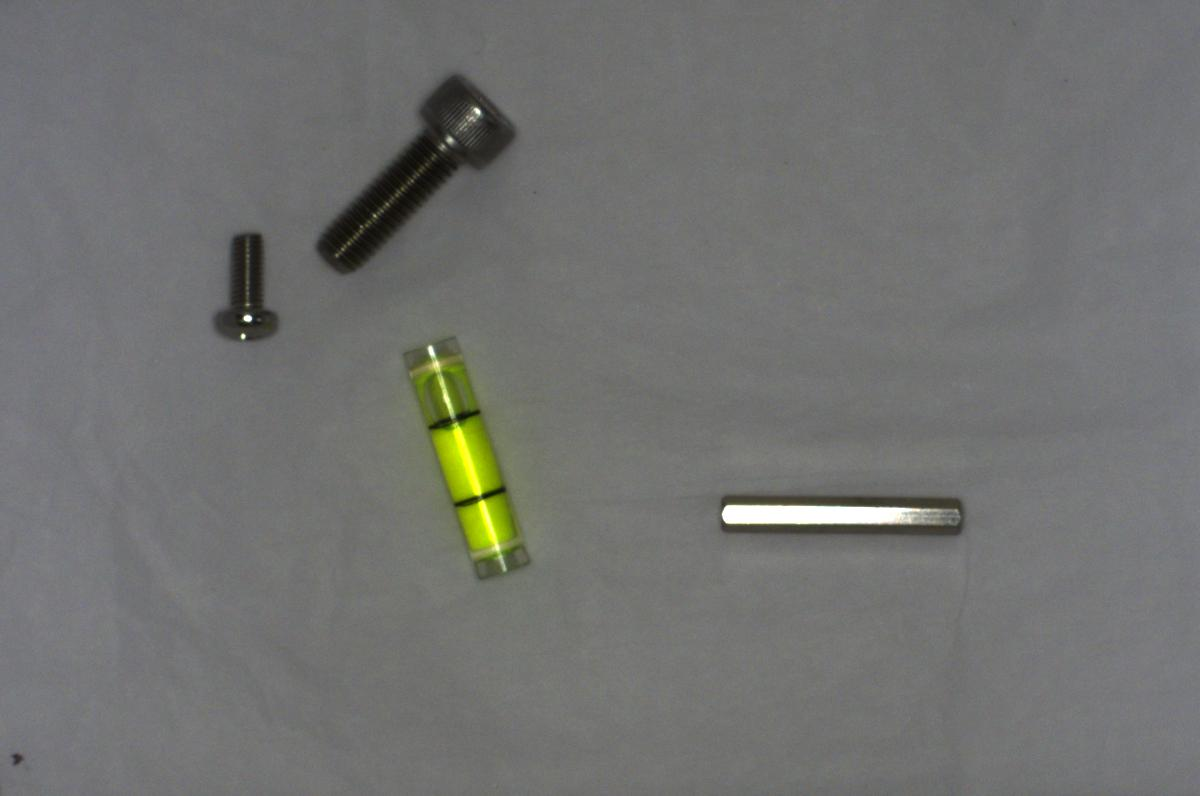Double hexagonal column: (707, 486, 970, 552)
Hexagon screw: (311, 72, 524, 281)
Horizontal bubble: (382, 316, 528, 588)
Round head screw: (199, 226, 297, 348)
